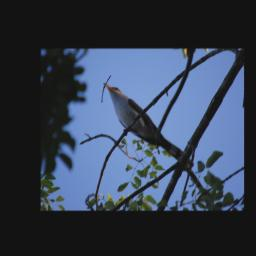Cuckoo: (101, 81, 184, 158)
